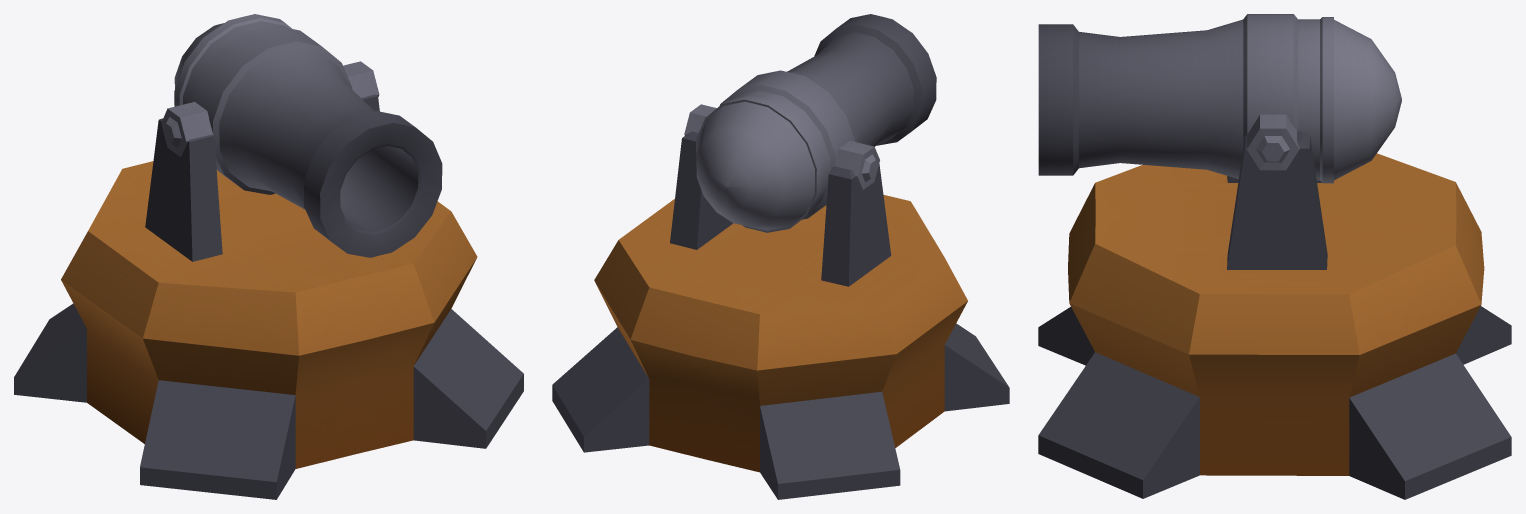
File: Cannon.glb
3 renders of one model, left to right at view 1: azimuth 30°, elevation 25°; view 2: azimuth 150°, elevation 25°; view 3: azimuth 270°, elevation 25°, orthographic. The views are drawn at different scales.
Visible parts, largest first — view 1: Cannon; view 2: Cannon; view 3: Cannon.
Boxes of the visible parts, bbox=[...] form: Cannon: bbox=[14, 14, 523, 499]; Cannon: bbox=[552, 14, 1009, 499]; Cannon: bbox=[1038, 14, 1511, 499].
Bounding box in the file's own units: 1.52 × 1.58 × 1.52.
2 materials, 2 textured.
